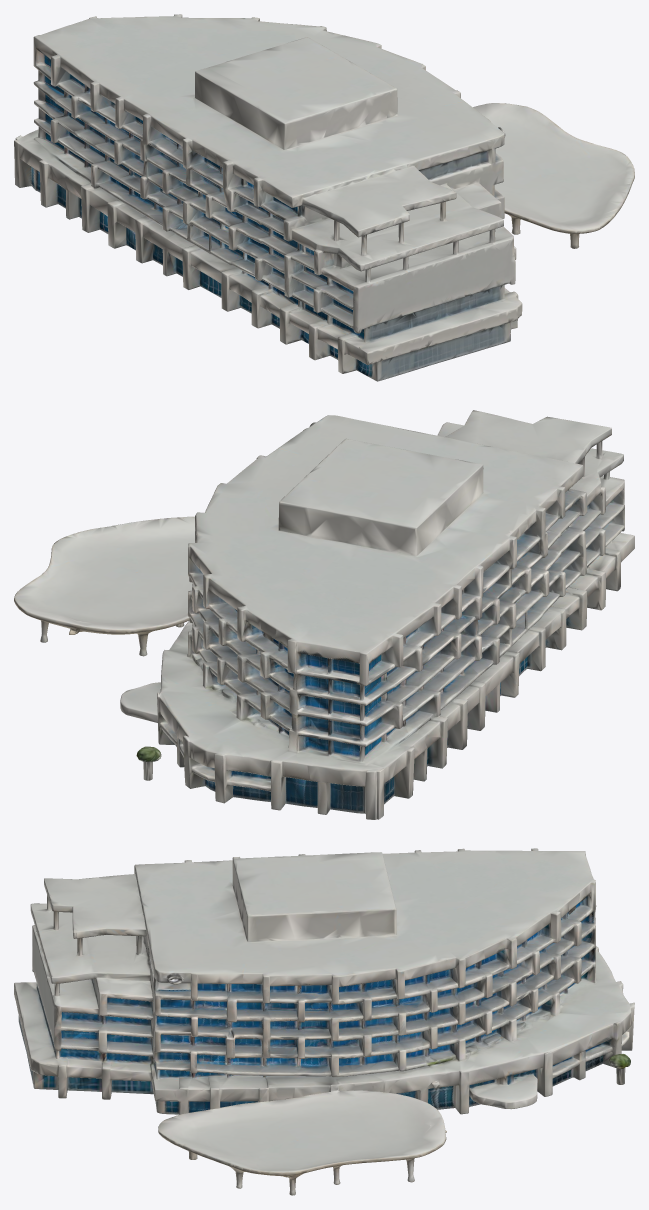
Rendered from sofitel.glb.
3 views of the same model, one above another, from view 1: azimuth 30°, elevation 25°; view 2: azimuth 150°, elevation 25°; view 3: azimuth 270°, elevation 25° (orthographic). The views are drawn at different scales.
Parts seen in each view (by area): view 1: tripo_node_5b8fa1ab-f364-4247-a232-32b50d5a09fc; view 2: tripo_node_5b8fa1ab-f364-4247-a232-32b50d5a09fc; view 3: tripo_node_5b8fa1ab-f364-4247-a232-32b50d5a09fc.
Boxes of the visible parts, x1,y1,x2,y2 form: tripo_node_5b8fa1ab-f364-4247-a232-32b50d5a09fc: (14, 14, 634, 381); tripo_node_5b8fa1ab-f364-4247-a232-32b50d5a09fc: (14, 410, 634, 819); tripo_node_5b8fa1ab-f364-4247-a232-32b50d5a09fc: (14, 848, 634, 1195).
Bounding box in the file's own units: 0.8344 × 0.3049 × 0.9999.
Materials: 1 (1 with a texture image).
